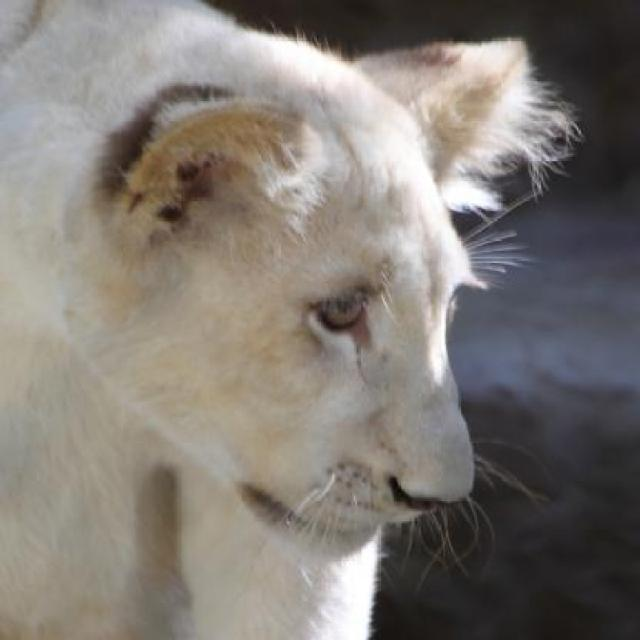Lion: (12, 6, 583, 639)
